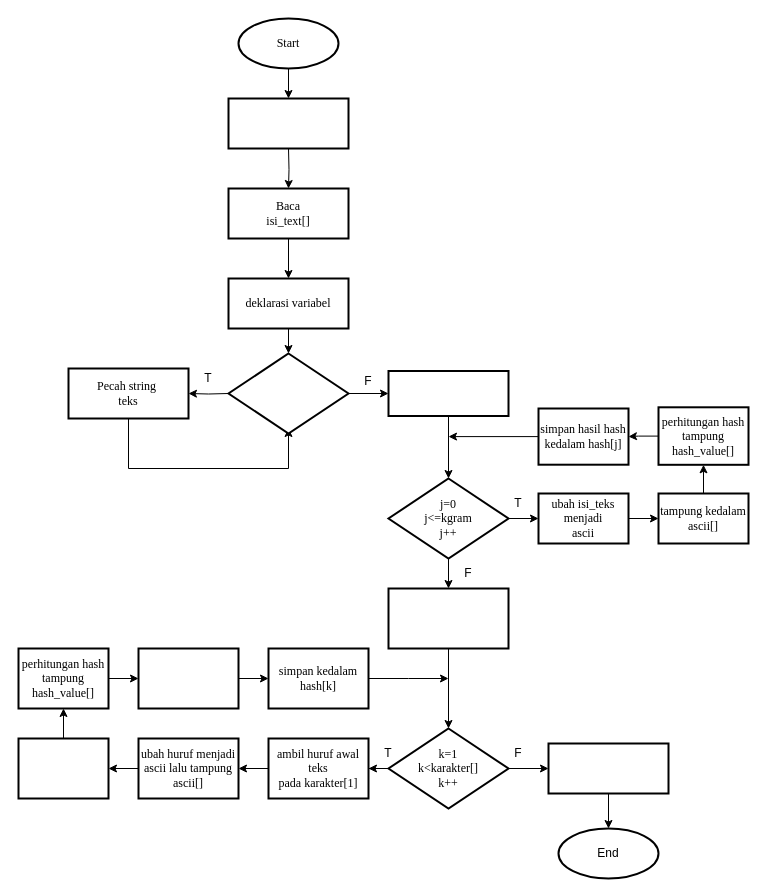
The diagram is 766 pixels wide and 896 high, and some of its shapes have lost their labels. The shapes that lost their labels are listed below. From the top down, each one's centre as x and y in pixels, then its label:
At (x=288, y=123): "Baca kgram[]".
At (x=288, y=393): "i=0 i<=isi_text - kgram i++".
At (x=448, y=393): "Jalankan Rolling Hash".
At (x=448, y=618): "tampung perhitungan hash kedalam hash_value[]".
At (x=188, y=678): "simpan hasil perhitungan hash var_hash[]".
At (x=63, y=768): "ambil huruf akhir dari teks pada karakter[k]".
At (x=608, y=768): "return hash".
